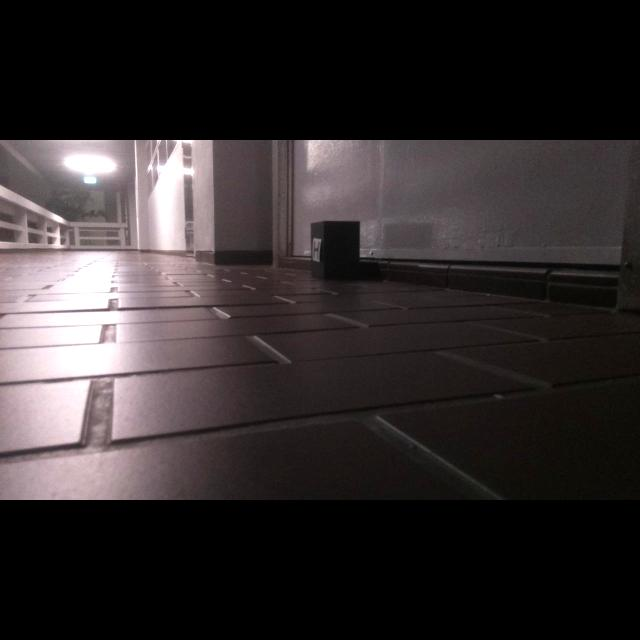H: (313, 240, 320, 259)
